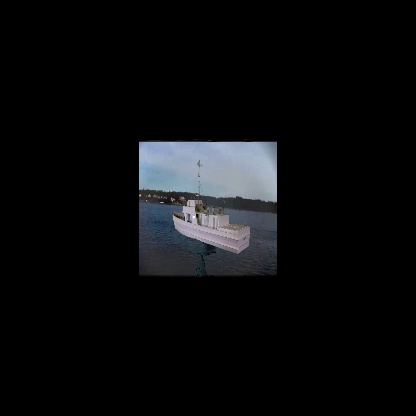YP689: (172, 160, 250, 254)
